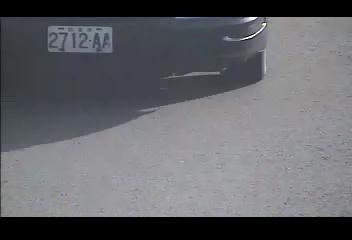plate: (45, 24, 115, 55)
